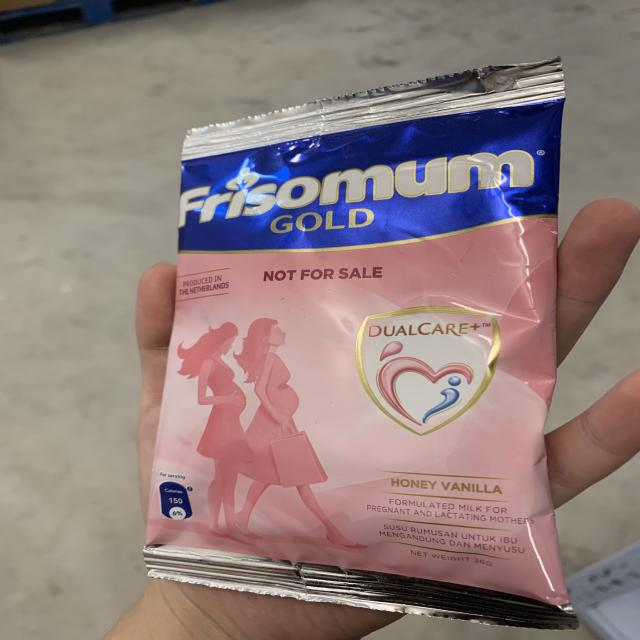object_name: (187, 102, 554, 601)
